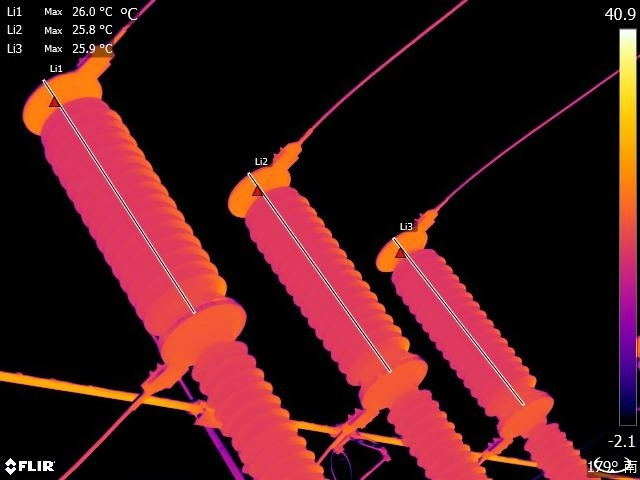circuit breaker: (27, 65, 322, 480), (235, 145, 494, 480), (386, 215, 591, 480)
